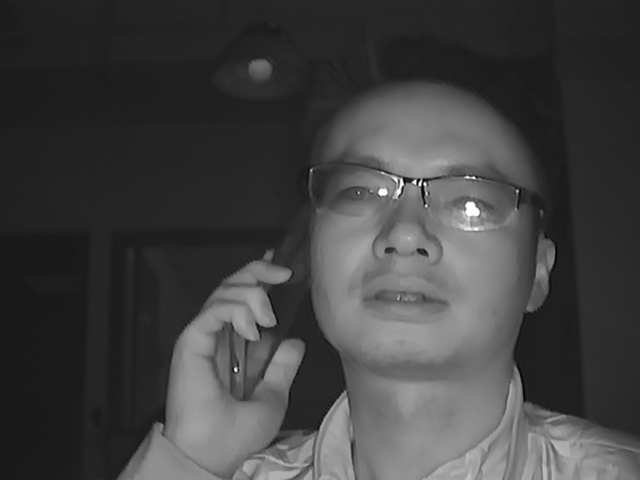hand: (162, 254, 307, 449)
